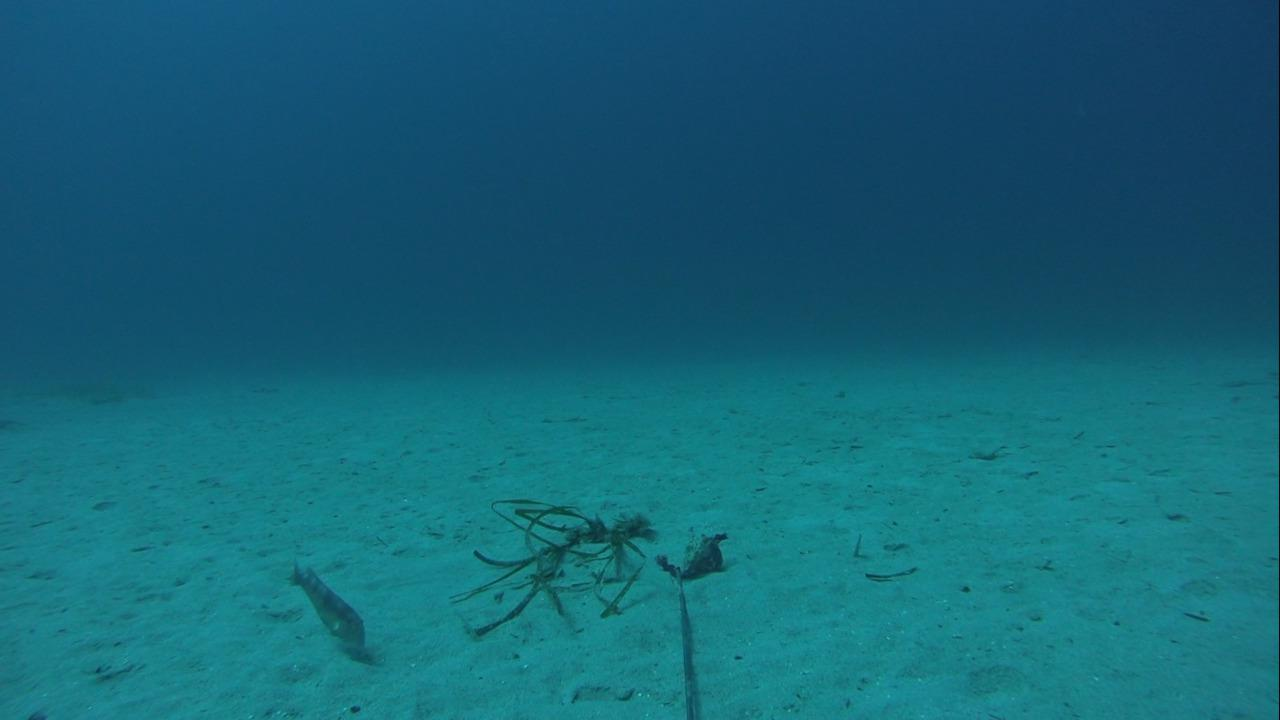raor: (280, 558, 367, 656)
